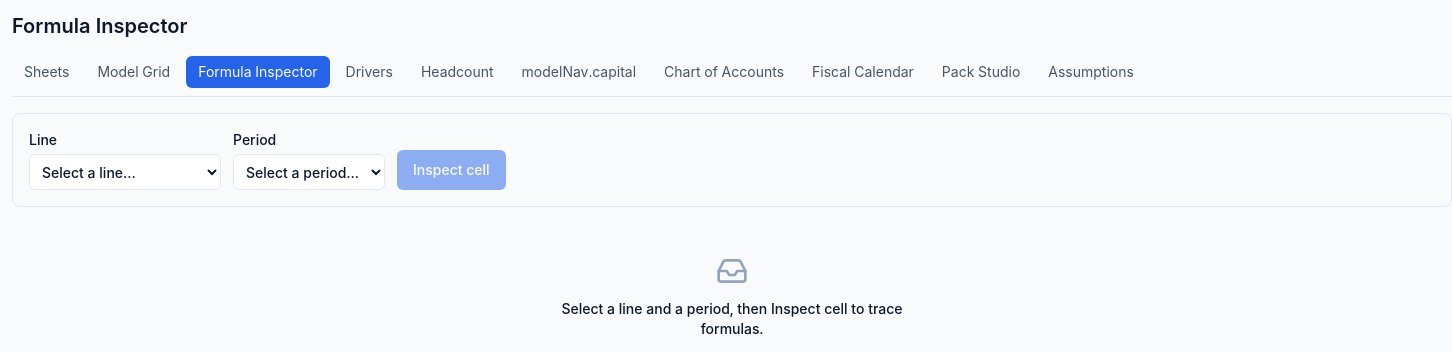
Test case: S-042 Formula Inspector (F-012) › falls back to the generic message when the error carries no userMessage
This screenshot has width=1452, height=352.
Select "4000 · Revenue" in the dropdown labelled "Line": (125, 172) [29,154,221,190]
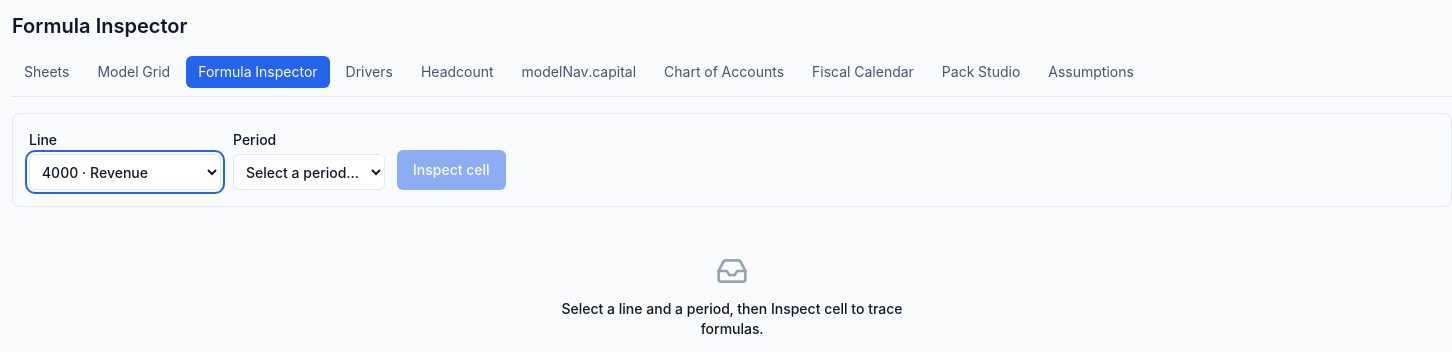
Select "P01" in the dropdown labelled "Period": (309, 172) [233,154,385,190]
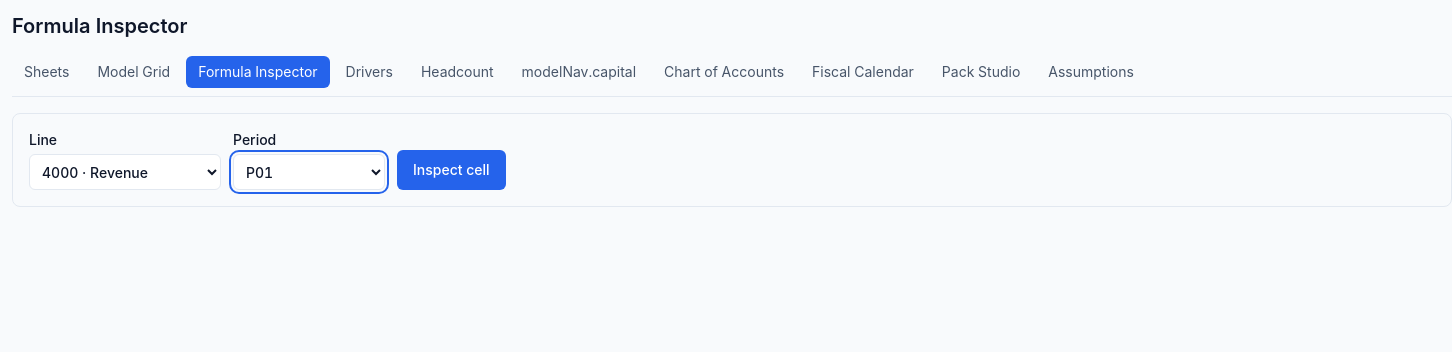
Click the button "Inspect cell": (451, 170) [397,150,506,190]
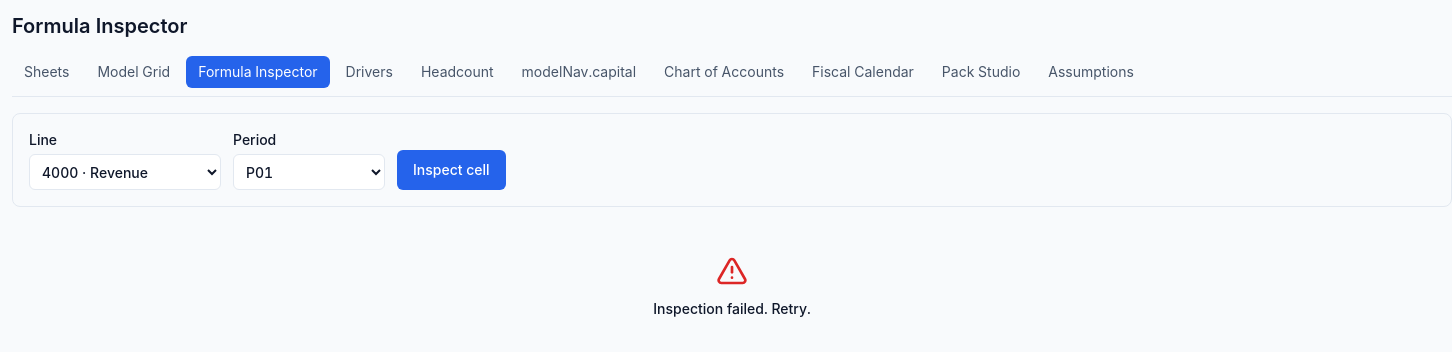
expect the text "Inspection failed. Retry." is shown: met, box [653,299,811,319]
